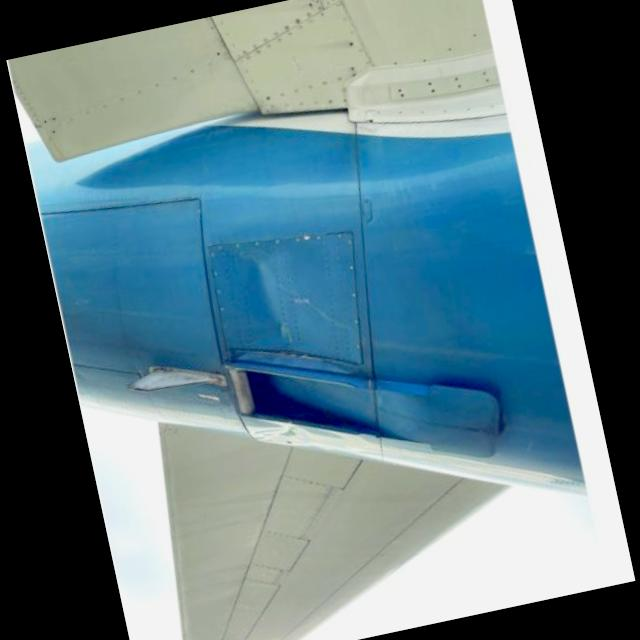dent: (232, 242, 298, 352)
